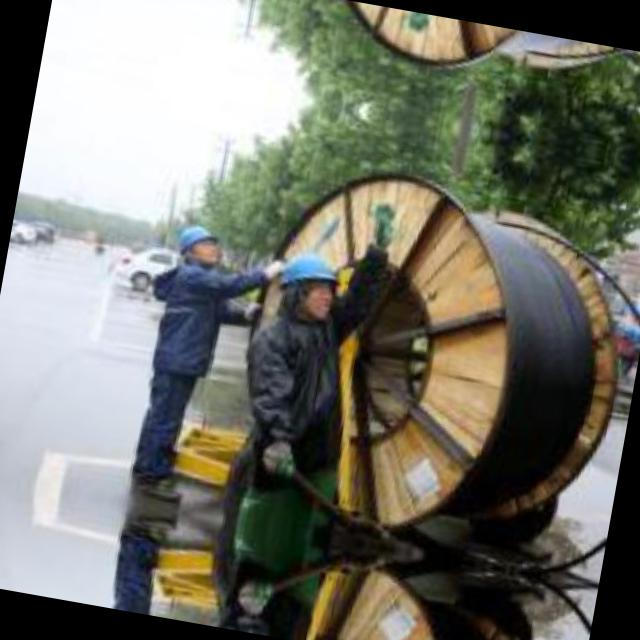helmet: (265, 240, 349, 333), (170, 219, 228, 269)
